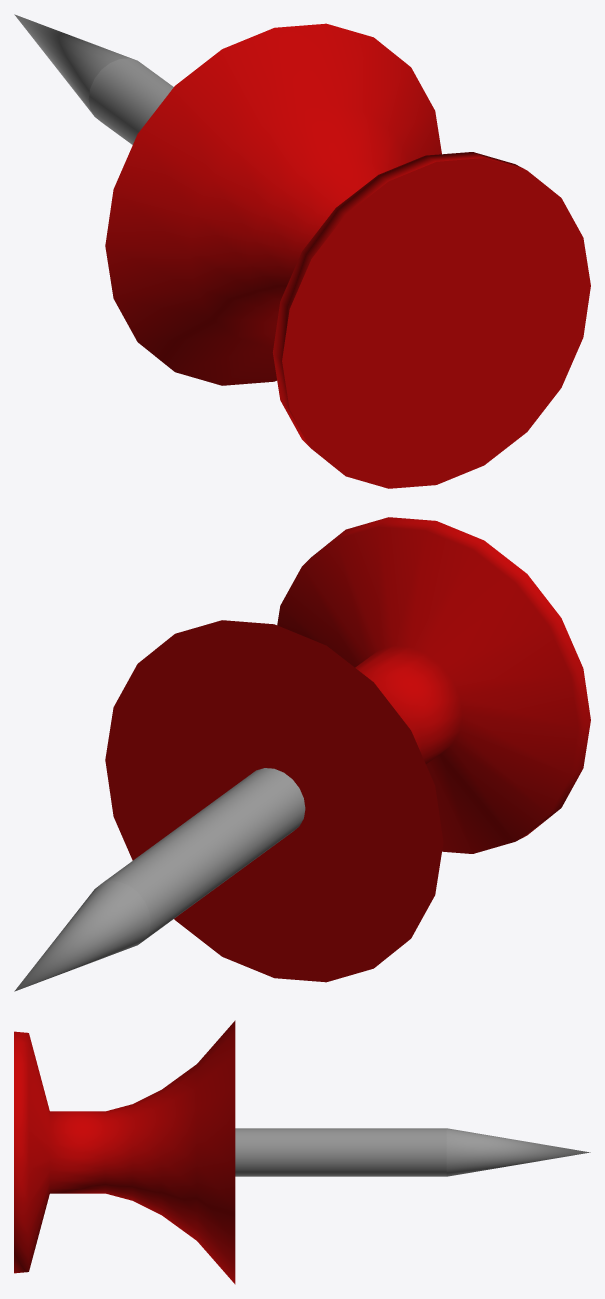
The model's file is PushPinFinal (Real).fbx.
3 renders of one model, top to bottom at view 1: azimuth 30°, elevation 25°; view 2: azimuth 150°, elevation 25°; view 3: azimuth 270°, elevation 25°, orthographic. The views are drawn at different scales.
Visible parts, largest first — view 1: PushPin_1; view 2: PushPin_1; view 3: PushPin_1.
Boxes of the visible parts, x1,y1,x2,y2 form: PushPin_1: (14, 14, 590, 488); PushPin_1: (14, 517, 590, 991); PushPin_1: (14, 1020, 590, 1284).
Size of the model in its own units: 24.88 by 24.88 by 53.84.
